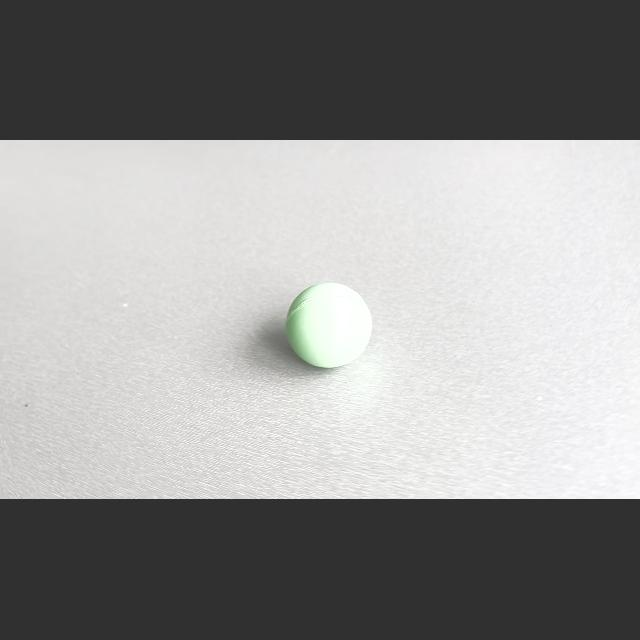objects: (280, 274, 378, 372)
